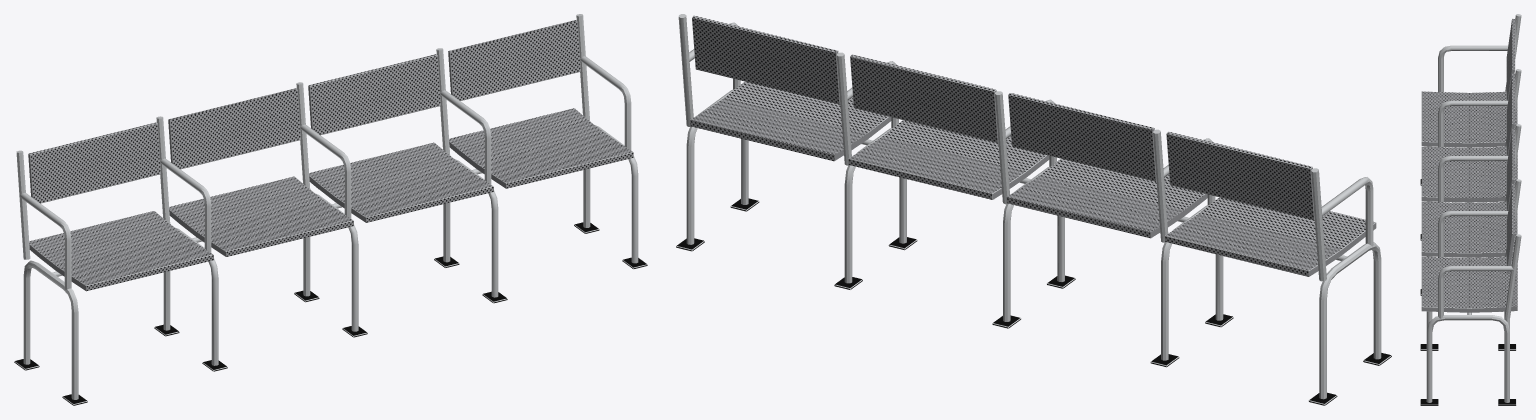
File: gteki_bench_4seat.glb
3 views of the same model, side by side, from view 1: azimuth 30°, elevation 25°; view 2: azimuth 150°, elevation 25°; view 3: azimuth 270°, elevation 25° (orthographic). The views are drawn at different scales.
Parts seen in each view (by area): view 1: VIS_seat, VIS_frame; view 2: VIS_seat, VIS_frame; view 3: VIS_seat, VIS_frame.
Part boxes in pixels (box(x1,y1,x2,y2)): VIS_seat: box(28, 20, 633, 291); VIS_frame: box(14, 14, 647, 405); VIS_seat: box(690, 15, 1376, 276); VIS_frame: box(676, 14, 1391, 405); VIS_seat: box(1421, 18, 1517, 312); VIS_frame: box(1420, 14, 1521, 405).
Size of what is drawn, in the model's own units: 2.34 by 0.8116 by 0.4424.
Materials: 4 (2 with a texture image).
